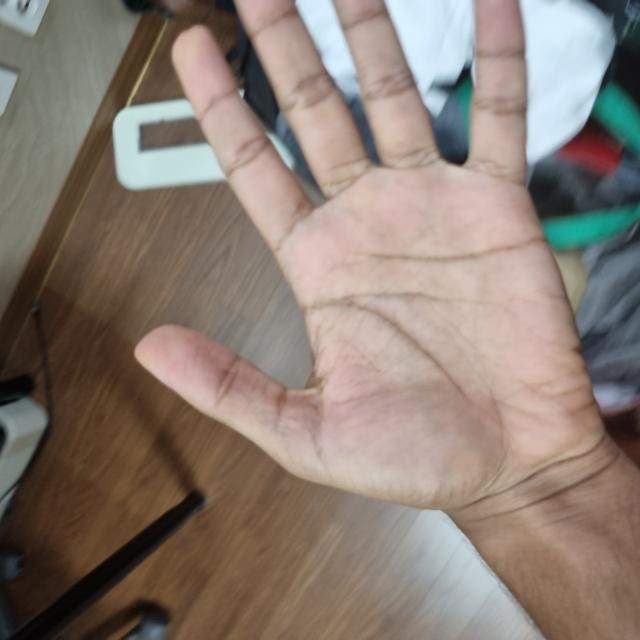Paper: (131, 137, 640, 597)
